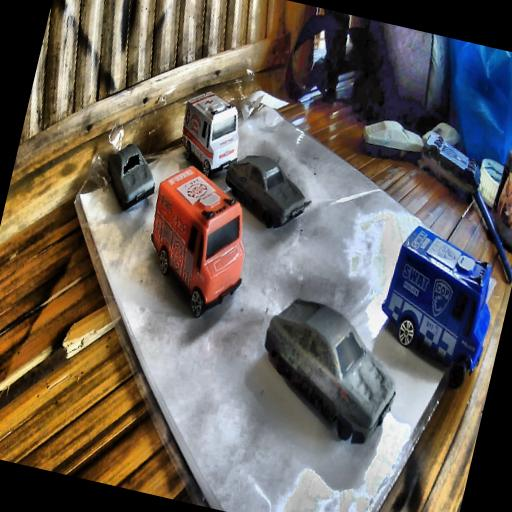ambulance: (171, 84, 250, 182)
fire_truck: (132, 159, 265, 326)
normal_car: (247, 293, 409, 452), (216, 147, 313, 237), (97, 138, 164, 218)
police car: (367, 221, 510, 390)
